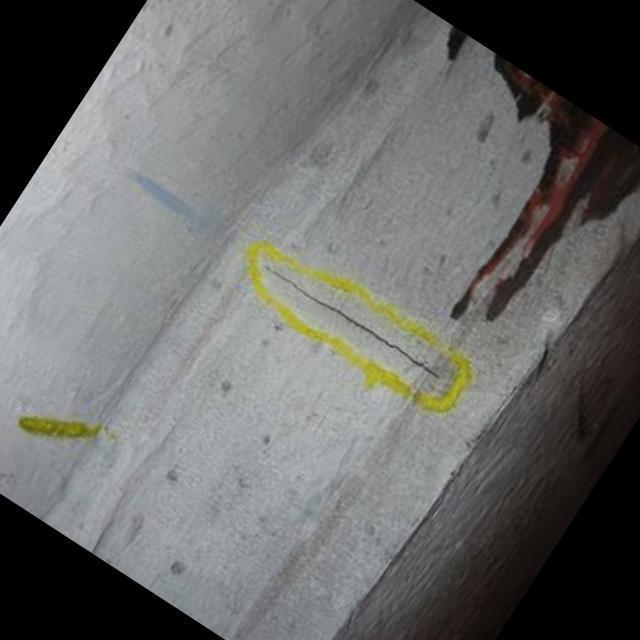defect: (254, 259, 442, 379)
